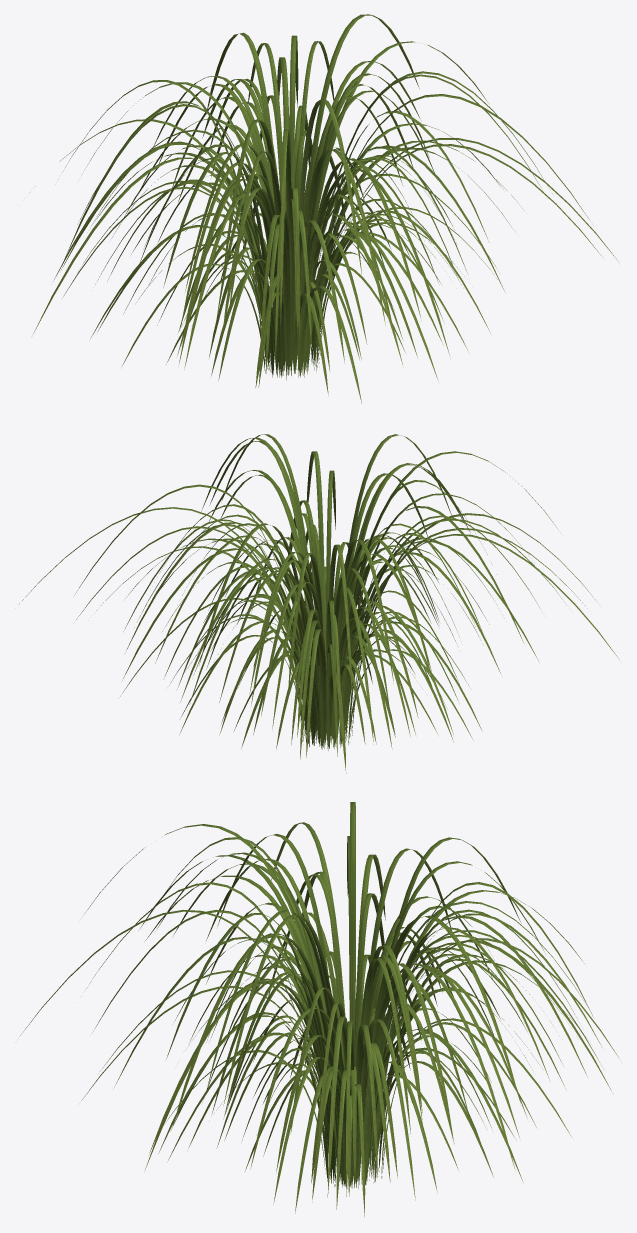
Rendered from m-grass.glb.
3 views of the same model, one above another, from view 1: azimuth 30°, elevation 25°; view 2: azimuth 150°, elevation 25°; view 3: azimuth 270°, elevation 25° (orthographic). The views are drawn at different scales.
Visible parts, largest first — view 1: Foliage; view 2: Foliage; view 3: Foliage.
Part boxes in pixels (x1,y1,x2,y2): Foliage: (33,14,618,403); Foliage: (19,434,619,773); Foliage: (19,802,619,1216).
Size of the model in its own units: 1.26 by 0.65 by 1.09.
Materials: 1 (1 with a texture image).
